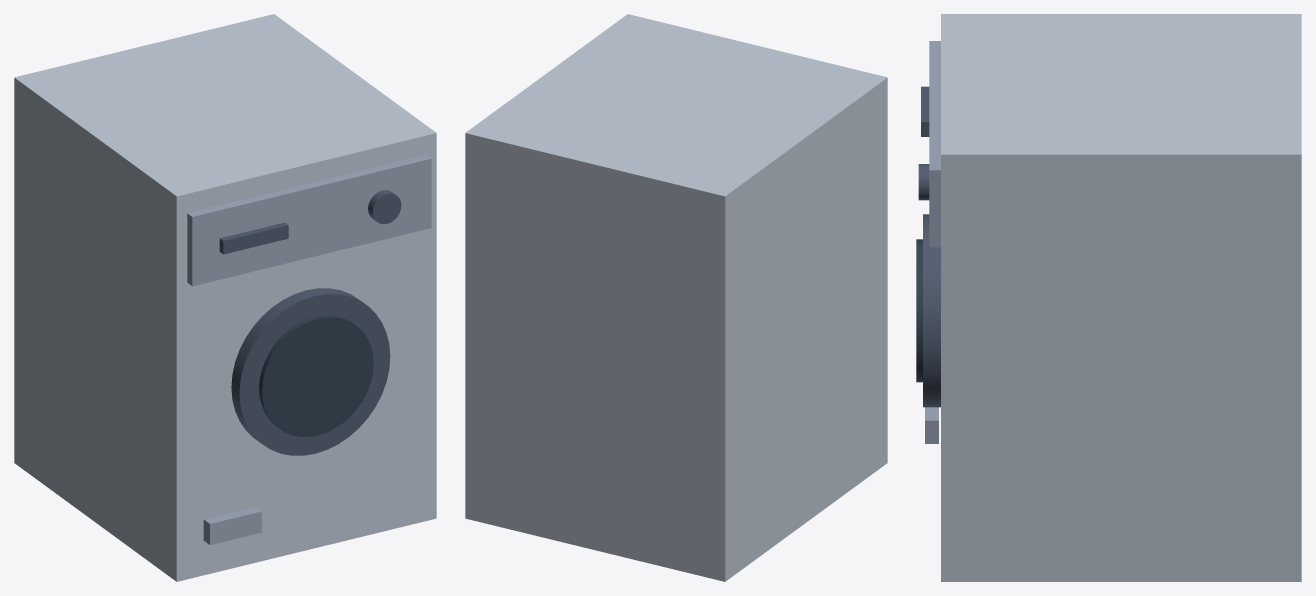
The model's file is washer-lite.glb.
3 views of the same model, side by side, from view 1: azimuth 30°, elevation 25°; view 2: azimuth 150°, elevation 25°; view 3: azimuth 270°, elevation 25° (orthographic). The views are drawn at different scales.
Visible parts, largest first — view 1: washer; view 2: washer; view 3: washer.
Part boxes in pixels (<box>): washer: <box>14,14,436,581</box>; washer: <box>465,14,887,581</box>; washer: <box>916,14,1301,581</box>.
Size of the model in its own units: 0.5999 by 0.85 by 0.6942.
